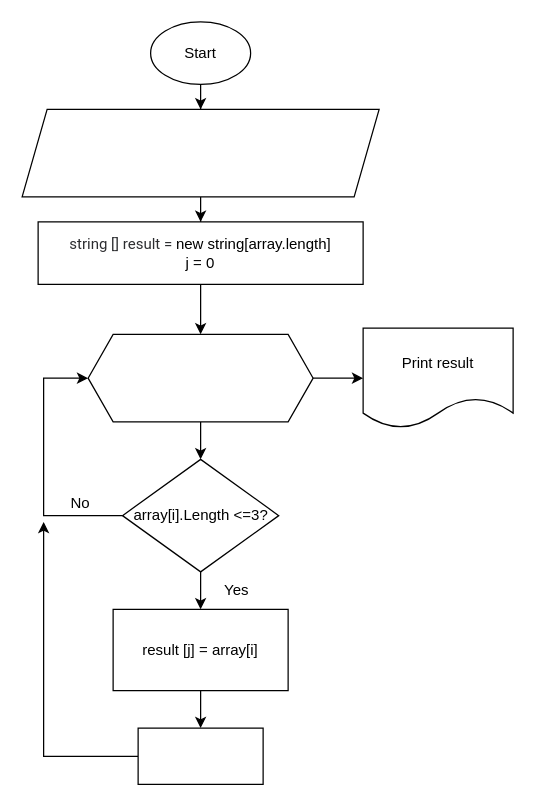
Image size: 535x806. Some labels were removed from this diagram. The shapes that lost their labels are listed below. From the top down, each one's centre as x and y in pixels, then its label:
[200,152]: string [] array = {" Hello", "2", "world", ":-)"}
[200,377]: int i = 0; i < array.length; i++
[200,755]: j ++
